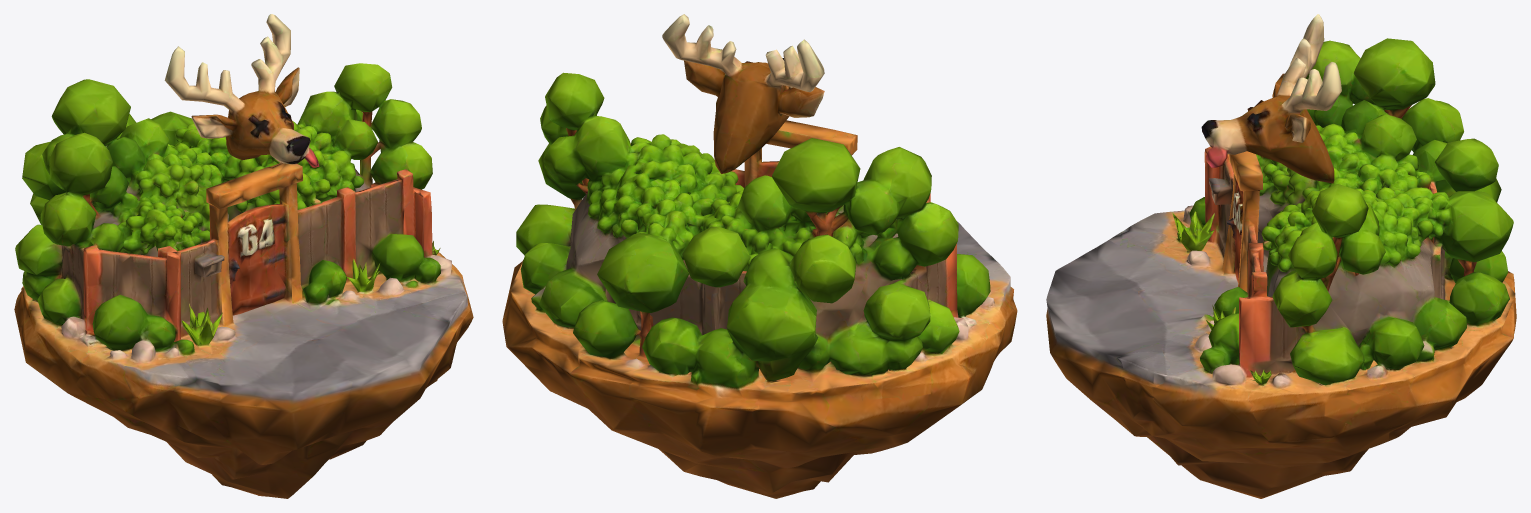
The model's file is oslovar.glb.
3 views of the same model, side by side, from view 1: azimuth 30°, elevation 25°; view 2: azimuth 150°, elevation 25°; view 3: azimuth 270°, elevation 25° (orthographic). The views are drawn at different scales.
Bounding box in the file's own units: 1.81 × 1.9 × 1.75.
Materials: 1 (1 with a texture image).
